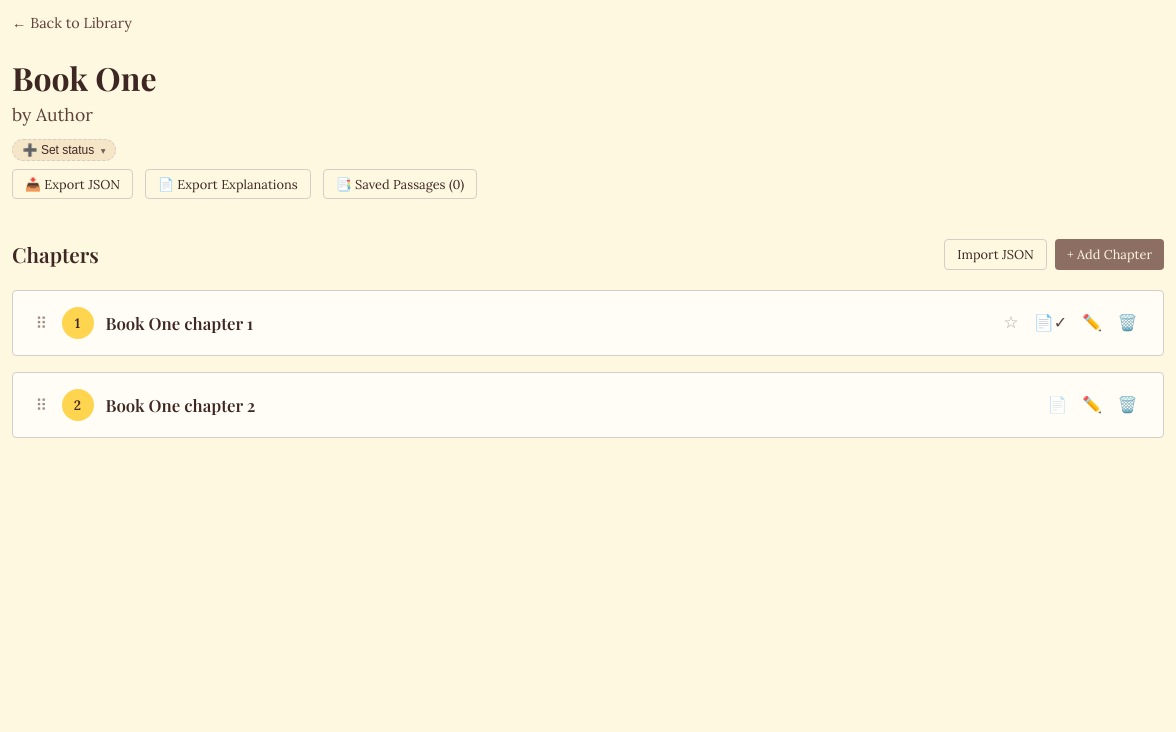
Test: book page failures › reports a failed JSON export
What coordinates should you click on to do the following:
click the button "📥 Export JSON"
I would click on:
 (72, 184)
Its box is [12,169,133,199].
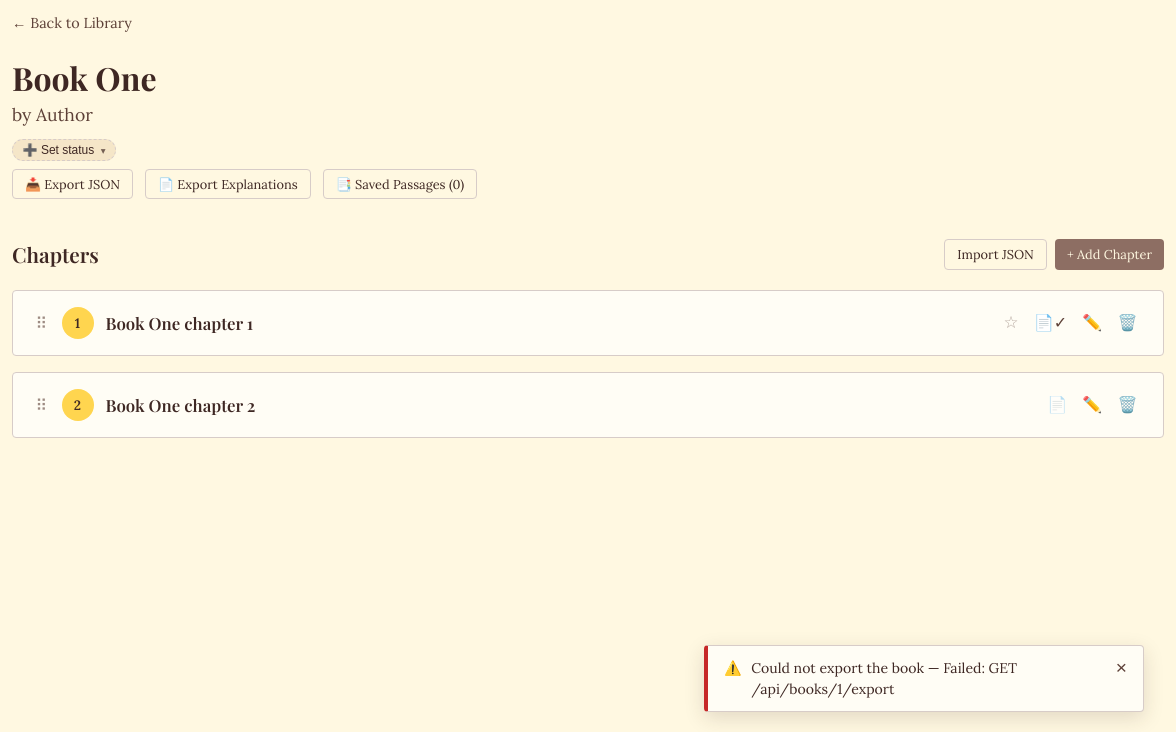
Check: the message shows "Could not export the book", box [751,659,1017,698]
